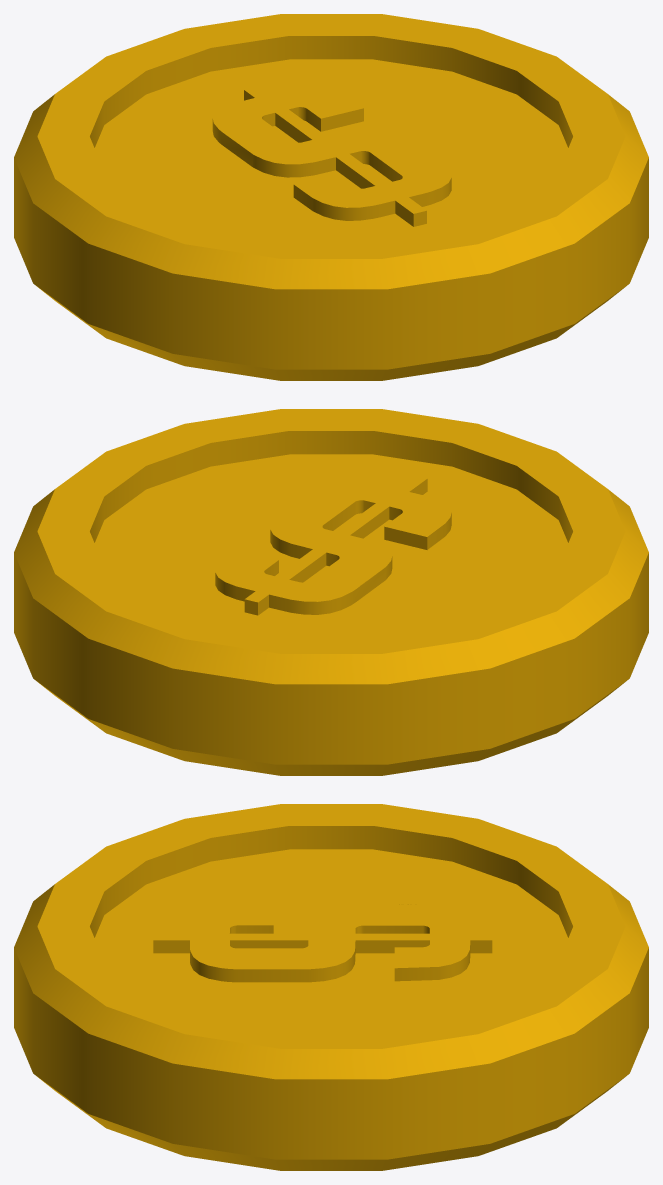
File: coin_new.glb
3 renders of one model, top to bottom at view 1: azimuth 30°, elevation 25°; view 2: azimuth 150°, elevation 25°; view 3: azimuth 270°, elevation 25°, orthographic.
Visible parts, largest first — view 1: Coin_New; view 2: Coin_New; view 3: Coin_New.
Boxes of the visible parts, box(x1,y1,x2,y2) form: Coin_New: box(14, 14, 648, 380); Coin_New: box(14, 409, 648, 775); Coin_New: box(14, 804, 648, 1170).
Bounding box in the file's own units: 1.97 × 0.424 × 2.
